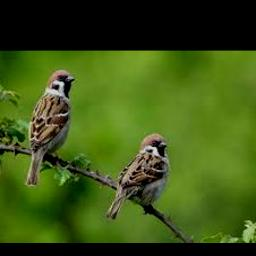Sparrow: (25, 69, 74, 187), (106, 133, 169, 220)
